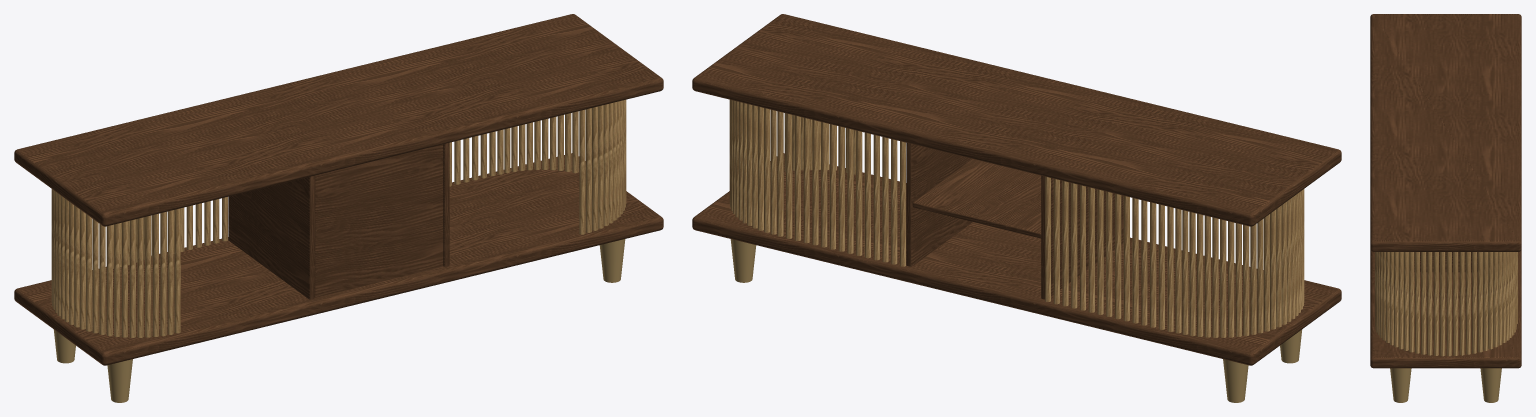
Rendered from residential-tambour-console.glb.
The picture shows the model from 3 angles, left to right: view 1: azimuth 30°, elevation 25°; view 2: azimuth 150°, elevation 25°; view 3: azimuth 270°, elevation 25°; orthographic projection. The views are drawn at different scales.
Visible parts, largest first — view 1: walnut_surfaces, oak_surfaces, bronze_surfaces; view 2: walnut_surfaces, oak_surfaces, bronze_surfaces; view 3: walnut_surfaces, oak_surfaces, bronze_surfaces.
Part boxes in pixels (bbox=[...]): walnut_surfaces: bbox=[14, 14, 663, 365]; oak_surfaces: bbox=[51, 99, 626, 337]; bronze_surfaces: bbox=[53, 239, 625, 402]; walnut_surfaces: bbox=[692, 14, 1341, 365]; oak_surfaces: bbox=[729, 99, 1304, 337]; bronze_surfaces: bbox=[730, 239, 1302, 402]; walnut_surfaces: bbox=[1370, 14, 1521, 368]; oak_surfaces: bbox=[1375, 252, 1517, 356]; bronze_surfaces: bbox=[1390, 368, 1501, 402].
Size of the model in its own units: 1.86 by 0.6511 by 0.52.
Materials: 4 (2 with a texture image).
